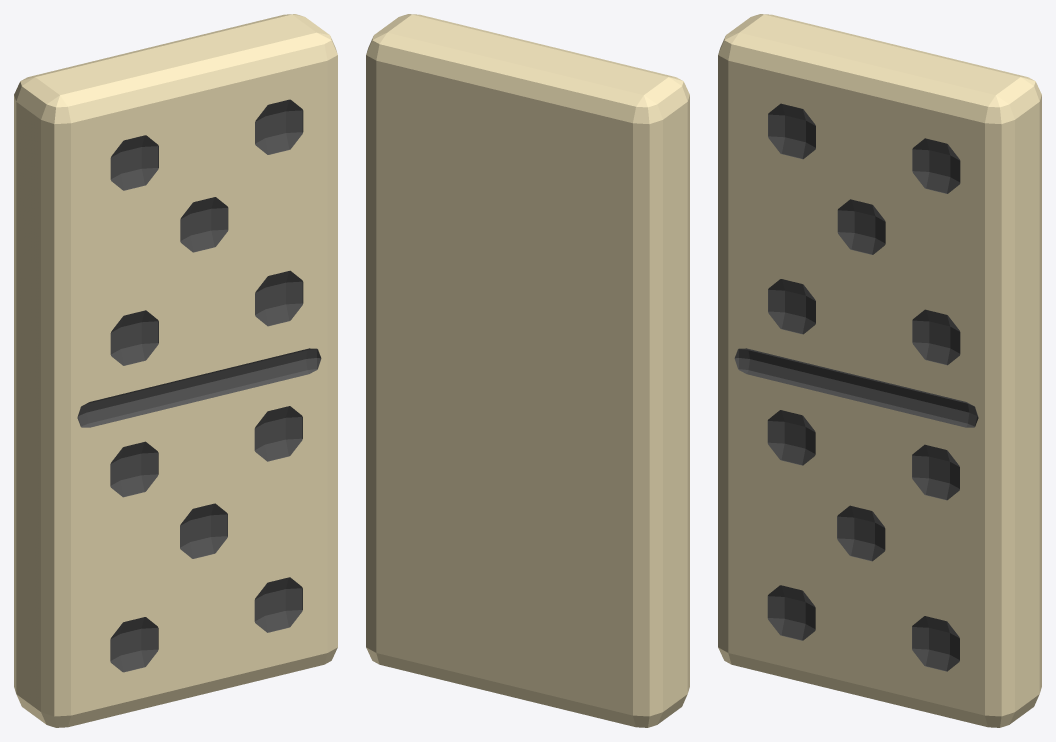
File: dominoes 5x5.fbx
3 renders of one model, left to right at view 1: azimuth 30°, elevation 25°; view 2: azimuth 150°, elevation 25°; view 3: azimuth 330°, elevation 25°, orthographic.
Visible parts, largest first — view 1: Boole_26; view 2: Boole_26; view 3: Boole_26.
Boxes of the visible parts, bbox=[...] form: Boole_26: bbox=[14, 14, 337, 727]; Boole_26: bbox=[366, 14, 689, 727]; Boole_26: bbox=[718, 14, 1041, 727].
Bounding box in the file's own units: 200 × 410 × 55.02.
